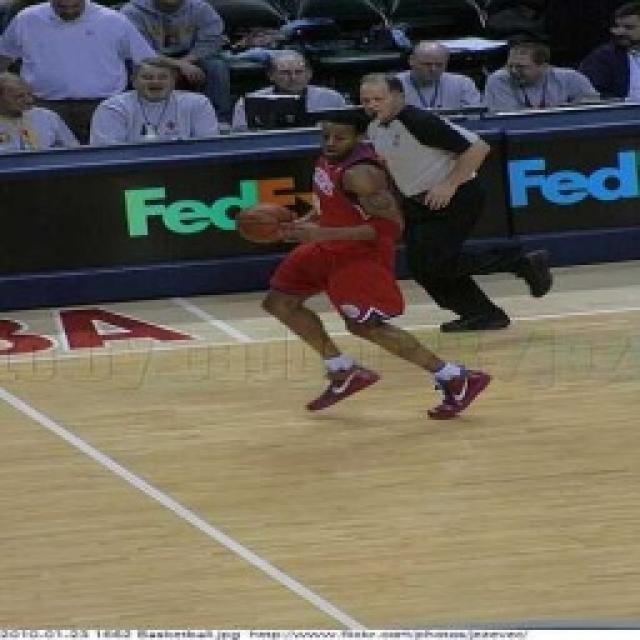rim: (228, 193, 299, 249)
